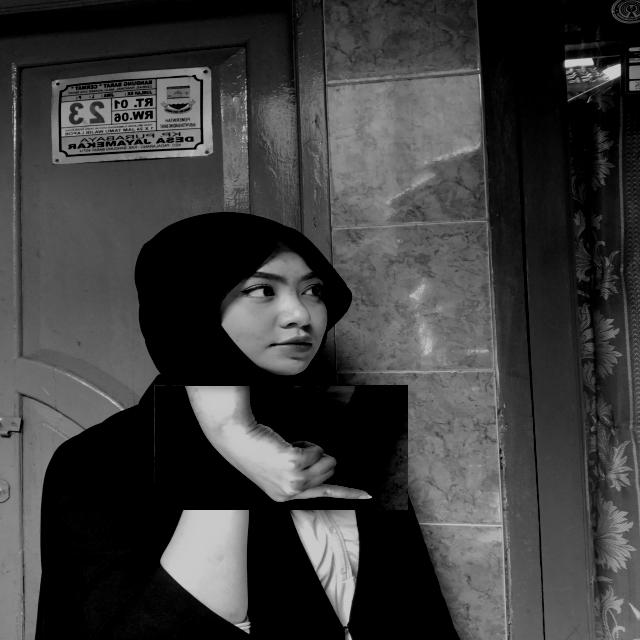kamu: (154, 385, 408, 510)
